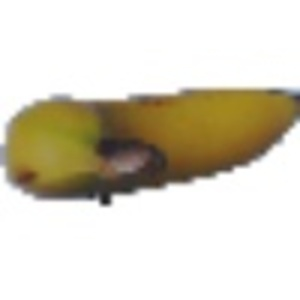banana: (4, 82, 295, 206)
